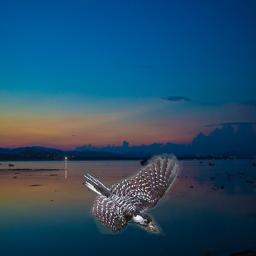Woodpecker: (84, 153, 183, 236)
